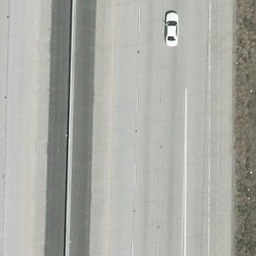car: (163, 11, 180, 48)
